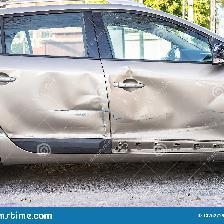door_dent: (52, 64, 201, 164)
